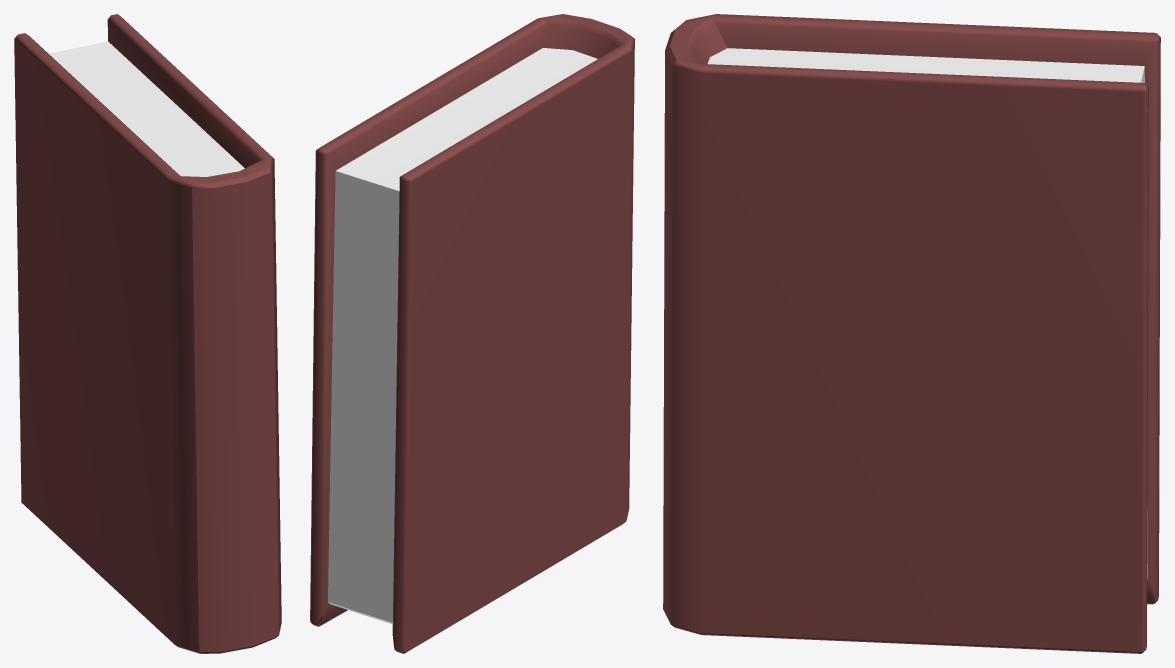
File: SM_Book.fbx
The picture shows the model from 3 angles, left to right: view 1: azimuth 30°, elevation 25°; view 2: azimuth 150°, elevation 25°; view 3: azimuth 270°, elevation 25°; orthographic projection. The views are drawn at different scales.
Parts seen in each view (by area): view 1: Book; view 2: Book; view 3: Book.
Boxes of the visible parts, left/top/right/bottom form: Book: left=14, top=14, right=281, bottom=653; Book: left=310, top=14, right=634, bottom=653; Book: left=663, top=14, right=1160, bottom=653.
Bounding box in the file's own units: 0.1521 × 0.4949 × 0.3942.
